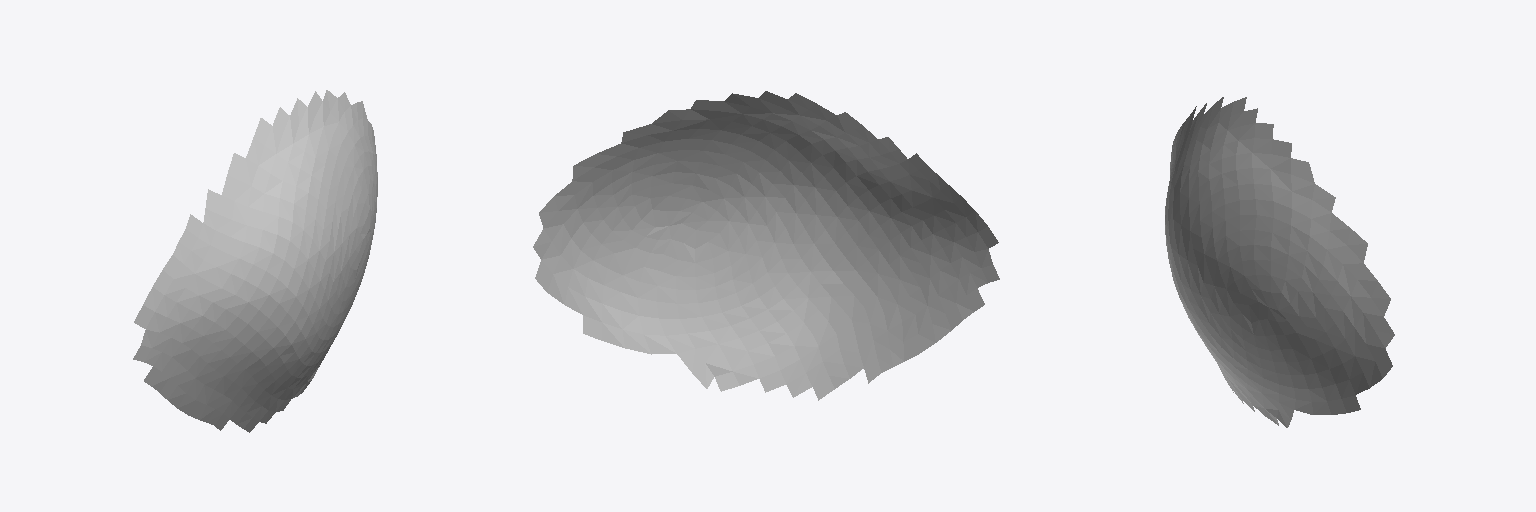
The model's file is disc_opt_quad.obj.
The picture shows the model from 3 angles: view 1: azimuth 30°, elevation 25°; view 2: azimuth 150°, elevation 25°; view 3: azimuth 270°, elevation 25°; orthographic projection.
Bounding box in the file's own units: 26.4 × 21.86 × 14.82.